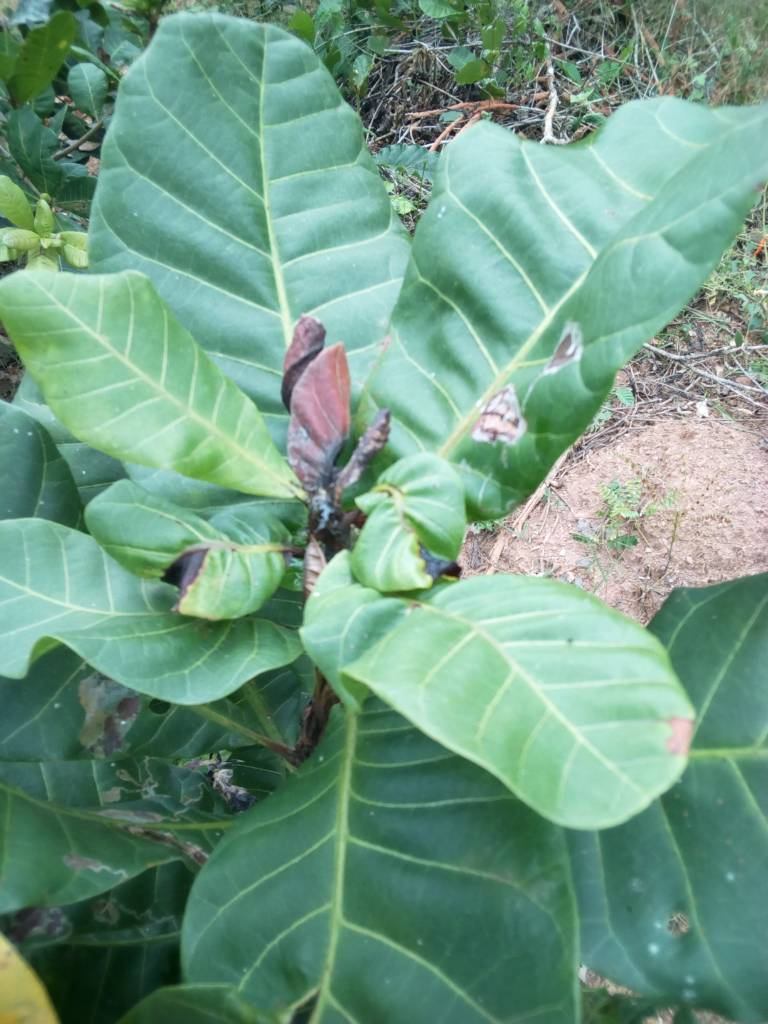Die-black: (263, 313, 400, 552)
